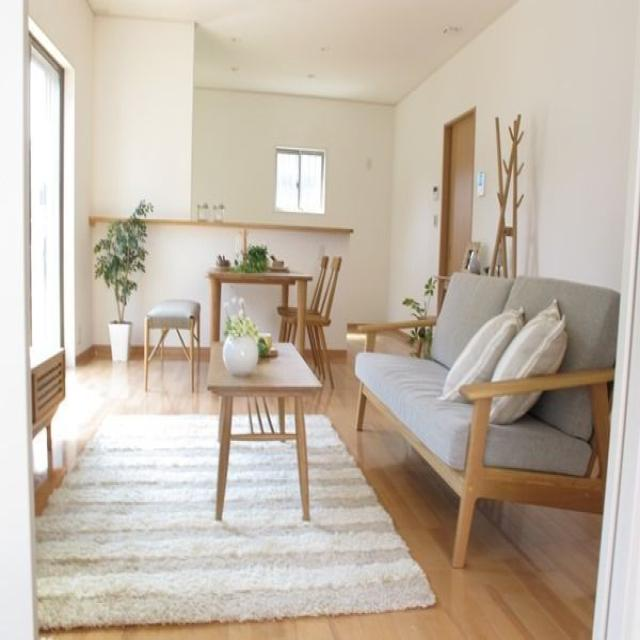natural chair: (284, 256, 342, 383)
natural desk: (205, 335, 324, 526), (205, 263, 308, 340)
natural sofa: (357, 266, 624, 570)
